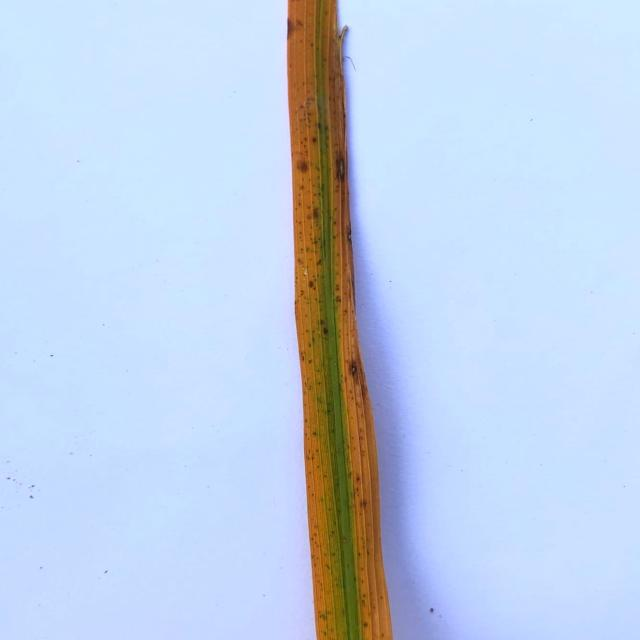tungro: (285, 0, 399, 640)
